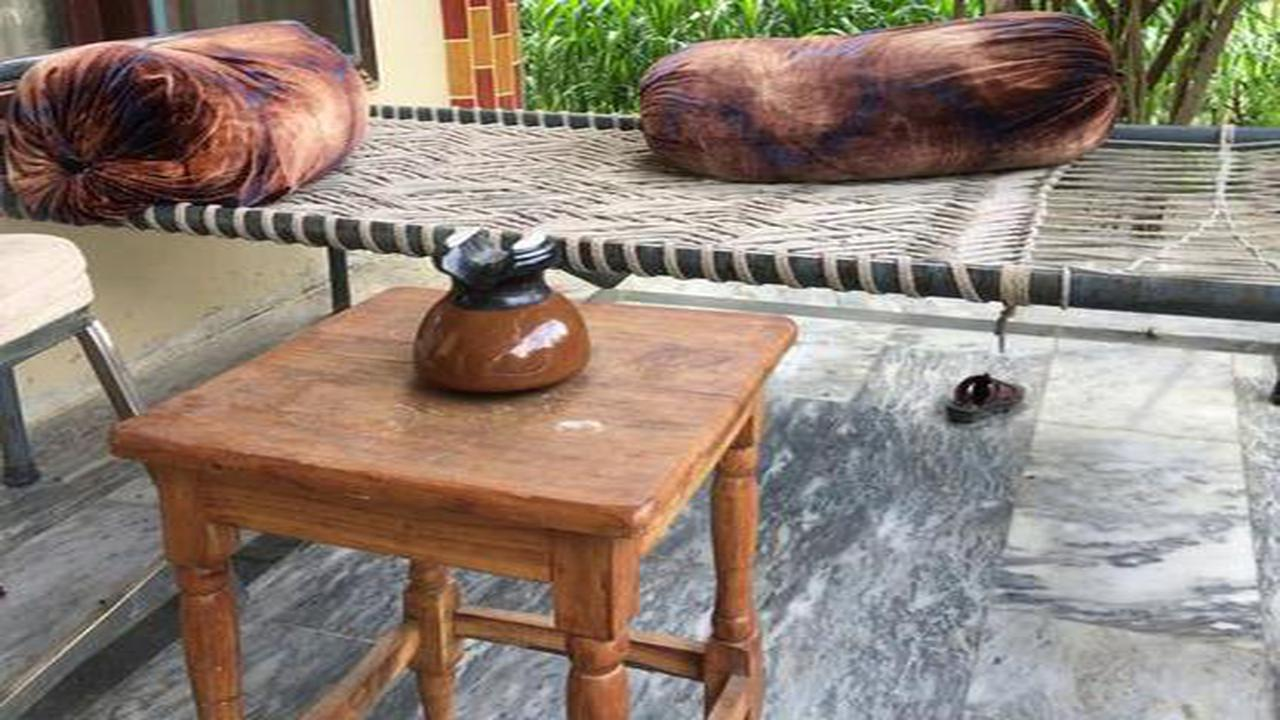insulator_pin: (379, 215, 619, 409)
